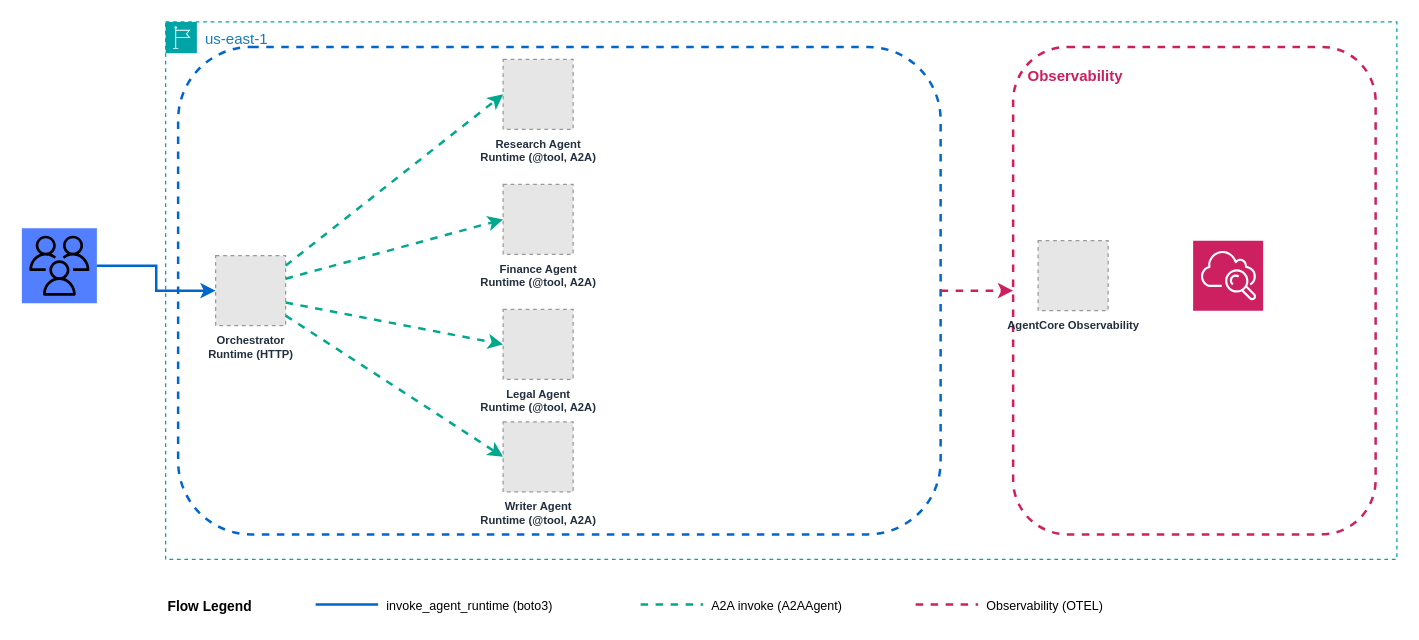
Some shapes in this 1419 by 640 pixel diagram are drawn without their labels. Grey dashed boxes stand in for pictures. The shapes that lost their labels are listed below. From the top down, each one's box as (x1, y1, x2, y2) in pixels, then its label:
(21, 228, 96, 302): User
(1192, 239, 1263, 311): Amazon CloudWatch
(176, 45, 941, 535): AgentCore Runtimes
